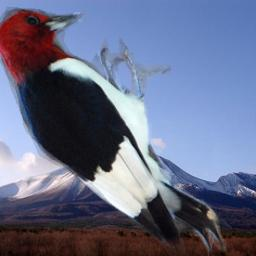Woodpecker: (0, 7, 232, 256)
